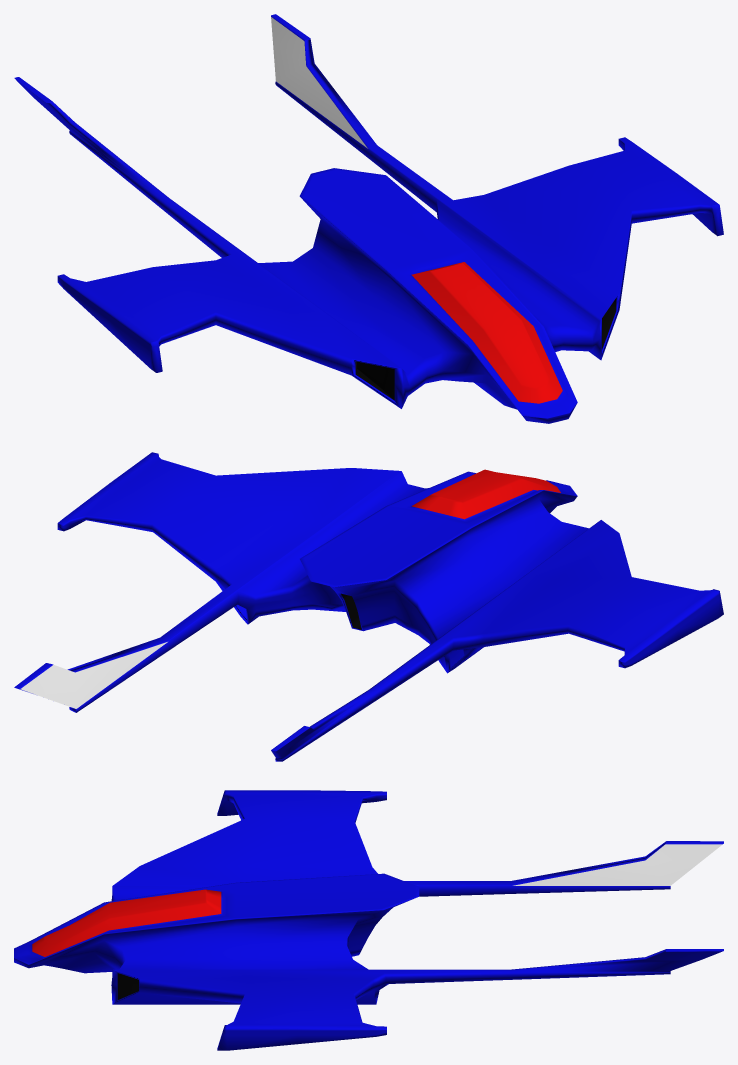
Rendered from Ship1.fbx.
The picture shows the model from 3 angles, top to bottom: view 1: azimuth 30°, elevation 25°; view 2: azimuth 150°, elevation 25°; view 3: azimuth 270°, elevation 25°; orthographic projection. The views are drawn at different scales.
Visible parts, largest first — view 1: pCube3; view 2: pCube3; view 3: pCube3.
Part boxes in pixels (box(x1,y1,x2,y2)): pCube3: box(14, 14, 723, 423); pCube3: box(14, 452, 723, 761); pCube3: box(14, 790, 723, 1050).
Bounding box in the file's own units: 11.79 × 1.76 × 14.89.
